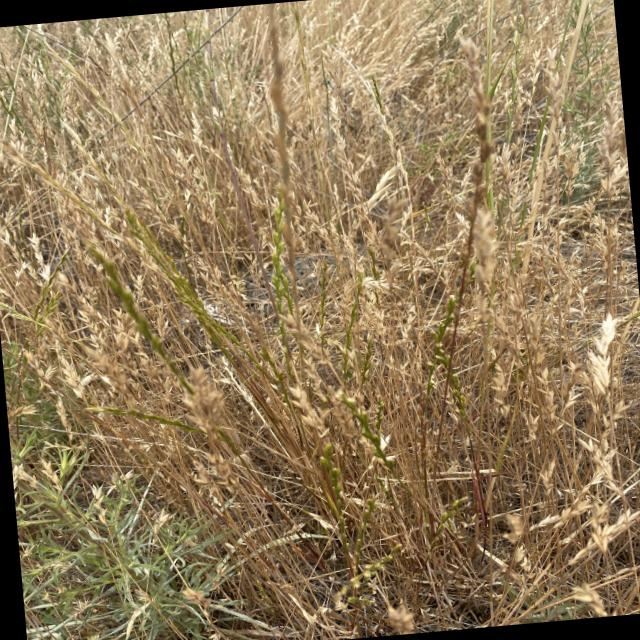Lolium: (0, 0, 640, 640), (442, 28, 508, 267), (580, 314, 630, 506), (86, 240, 164, 356), (348, 396, 399, 481), (265, 199, 295, 312)
